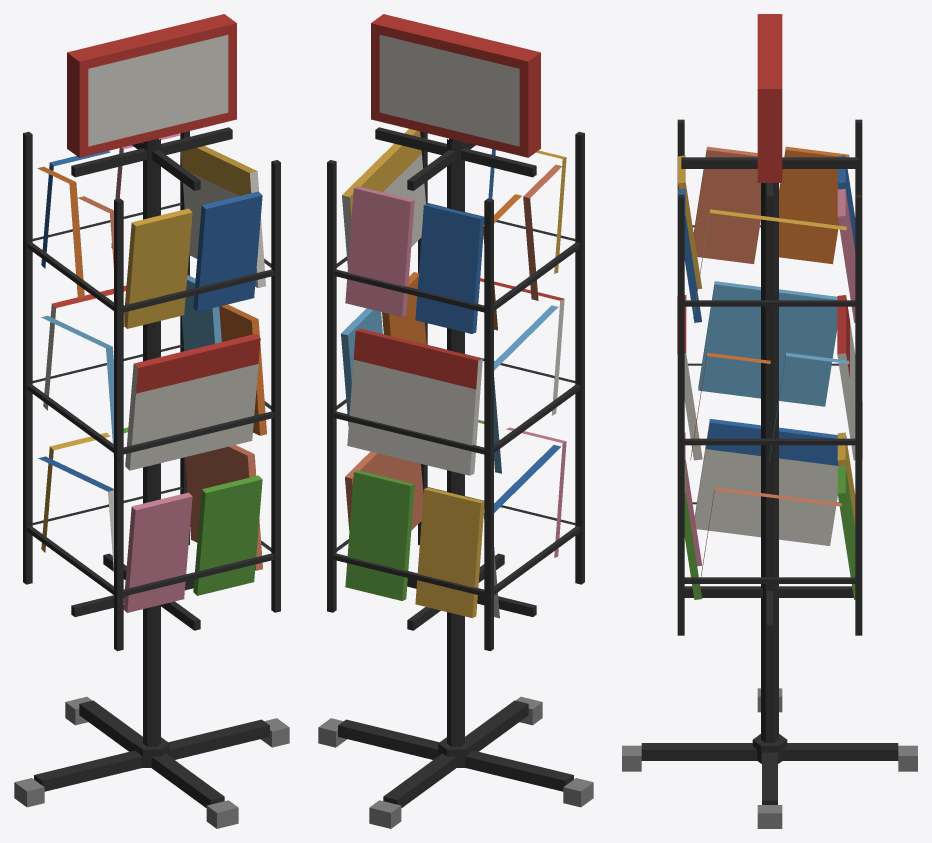
File: gazete_standi.glb
3 renders of one model, left to right at view 1: azimuth 30°, elevation 25°; view 2: azimuth 150°, elevation 25°; view 3: azimuth 270°, elevation 25°, orthographic. The views are drawn at different scales.
Parts seen in each view (by area): view 1: gazete_standi; view 2: gazete_standi; view 3: gazete_standi.
Part boxes in pixels (<box>): gazete_standi: <box>14,14,289,828</box>; gazete_standi: <box>318,14,593,828</box>; gazete_standi: <box>622,14,917,828</box>.
Size of the model in its own units: 0.6 by 1.6 by 0.6.
